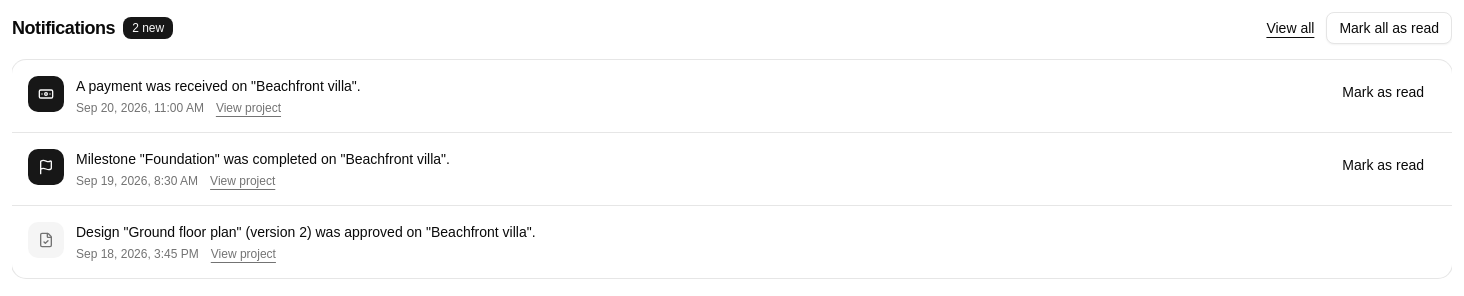
Test case: NotificationsPanel › marking read › marks one read, and the list and the count follow
The image size is (1464, 296).
Click the button "Mark as read" in the row of "Sep 20, 2026, 11:00 AM": [1383, 92] box [1330, 76, 1436, 108]
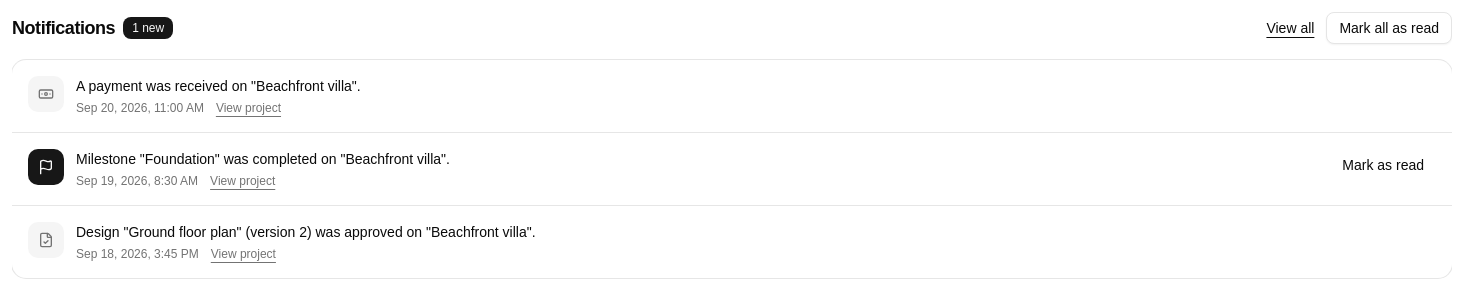
Now the text "1 new" is shown, box [123, 17, 173, 39]
